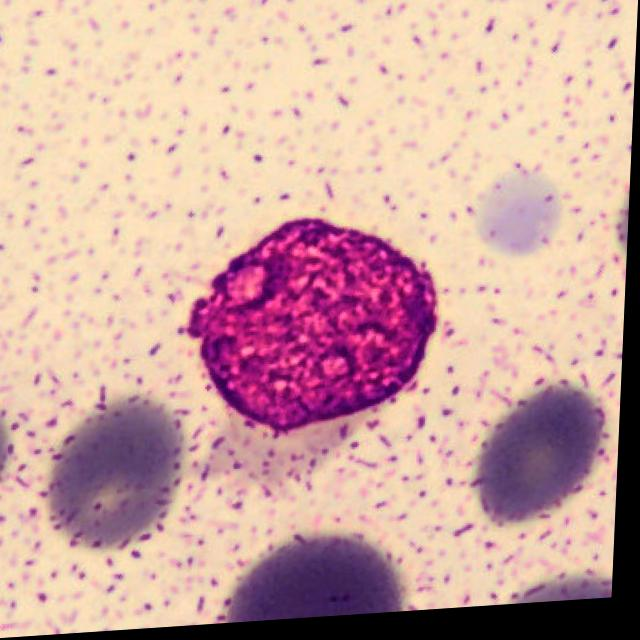Restos celulares: (185, 224, 441, 438)
